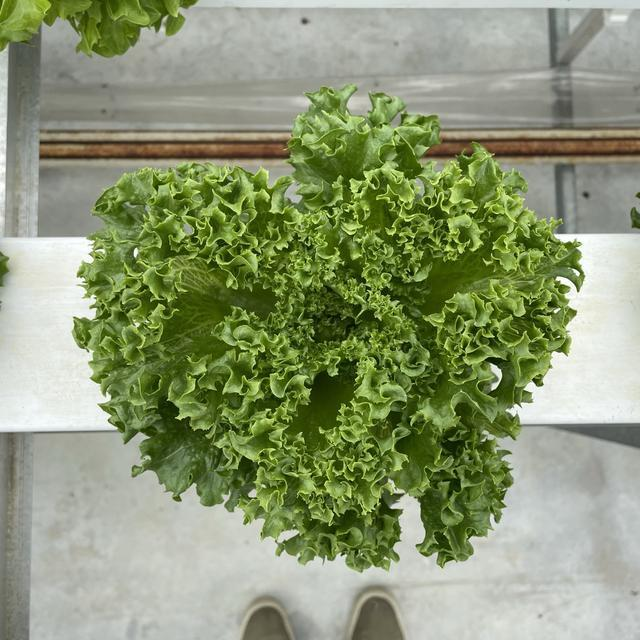Lettuce: (73, 81, 587, 572), (0, 0, 198, 58)
